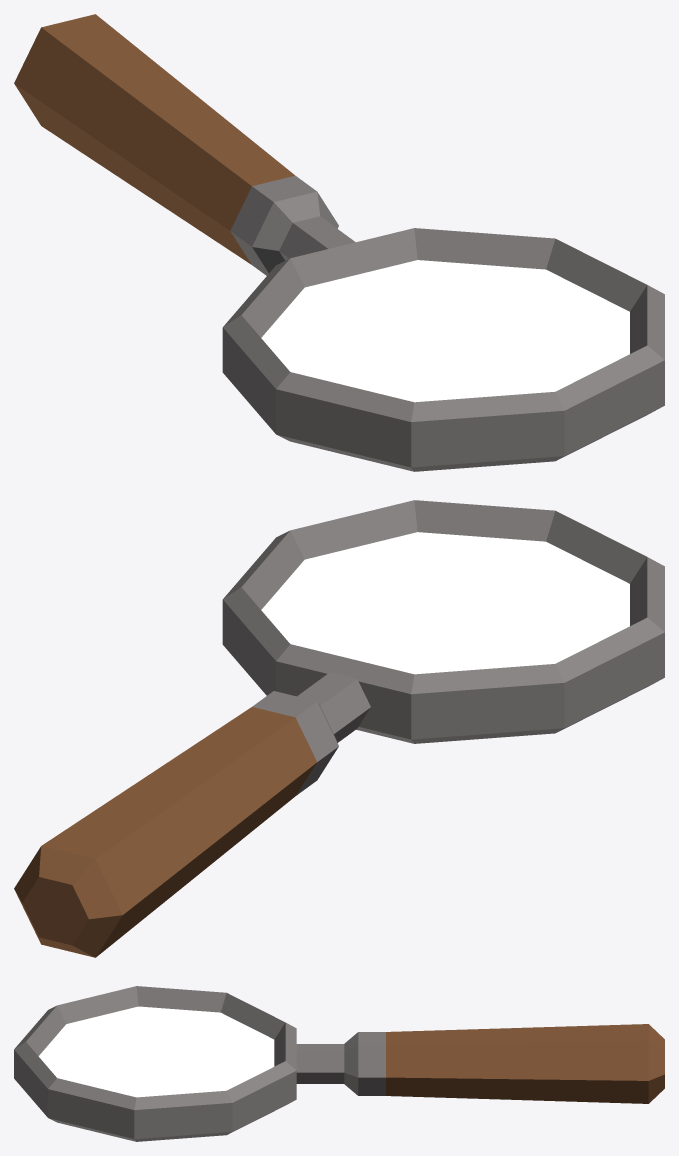
Rendered from tools-magnifying-glass.glb.
3 renders of one model, top to bottom at view 1: azimuth 30°, elevation 25°; view 2: azimuth 150°, elevation 25°; view 3: azimuth 270°, elevation 25°, orthographic. The views are drawn at different scales.
Visible parts, largest first — view 1: magnifying-glass; view 2: magnifying-glass; view 3: magnifying-glass.
Part boxes in pixels (box(x1,y1,x2,y2)): magnifying-glass: box(14, 14, 664, 471); magnifying-glass: box(14, 500, 664, 957); magnifying-glass: box(14, 986, 664, 1141).
Bounding box in the file's own units: 0.1192 × 0.0289 × 0.2702.
